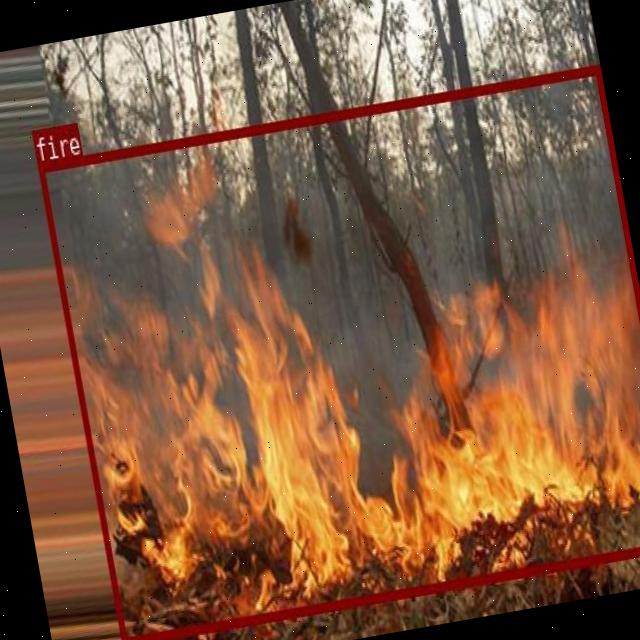fire: (36, 64, 640, 640)
